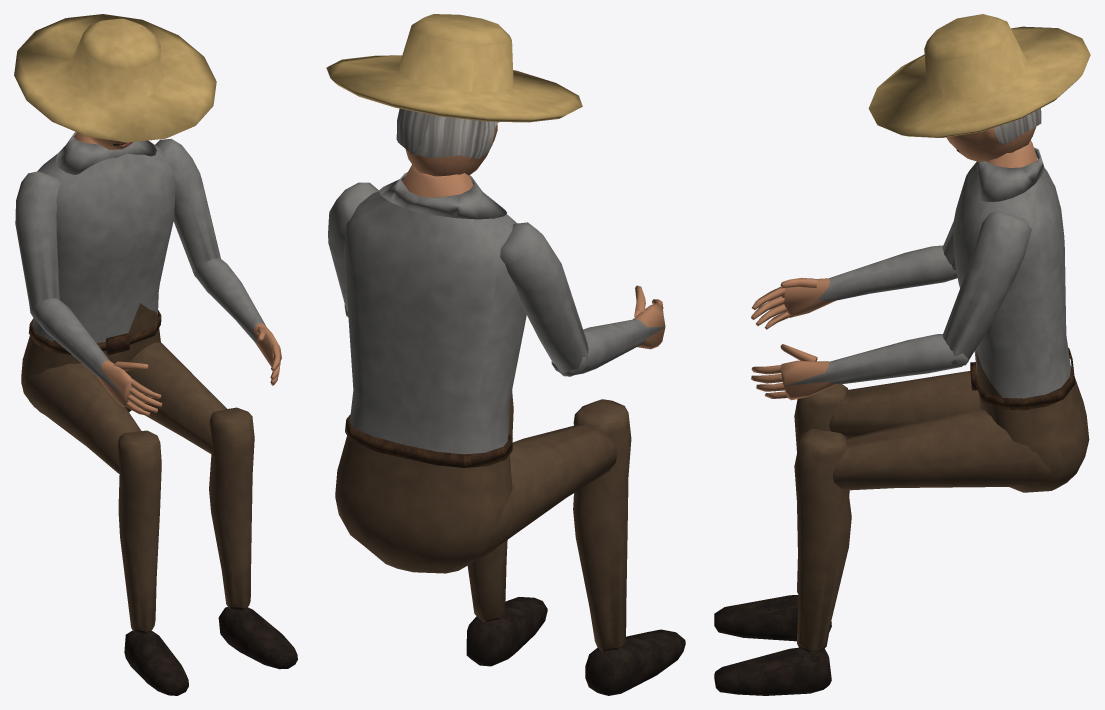
File: persona_hombre_sentado_lod.obj
3 renders of one model, left to right at view 1: azimuth 30°, elevation 25°; view 2: azimuth 150°, elevation 25°; view 3: azimuth 270°, elevation 25°, orthographic. The views are drawn at different scales.
Parts seen in each view (by area): view 1: persona_hombre_sentado; view 2: persona_hombre_sentado; view 3: persona_hombre_sentado.
Part boxes in pixels (<box>): persona_hombre_sentado: <box>14,14,297,695</box>; persona_hombre_sentado: <box>326,14,685,695</box>; persona_hombre_sentado: <box>714,14,1090,695</box>.
Bounding box in the file's own units: 0.4928 × 1.42 × 0.7546.
Materials: 13 (13 with a texture image).
